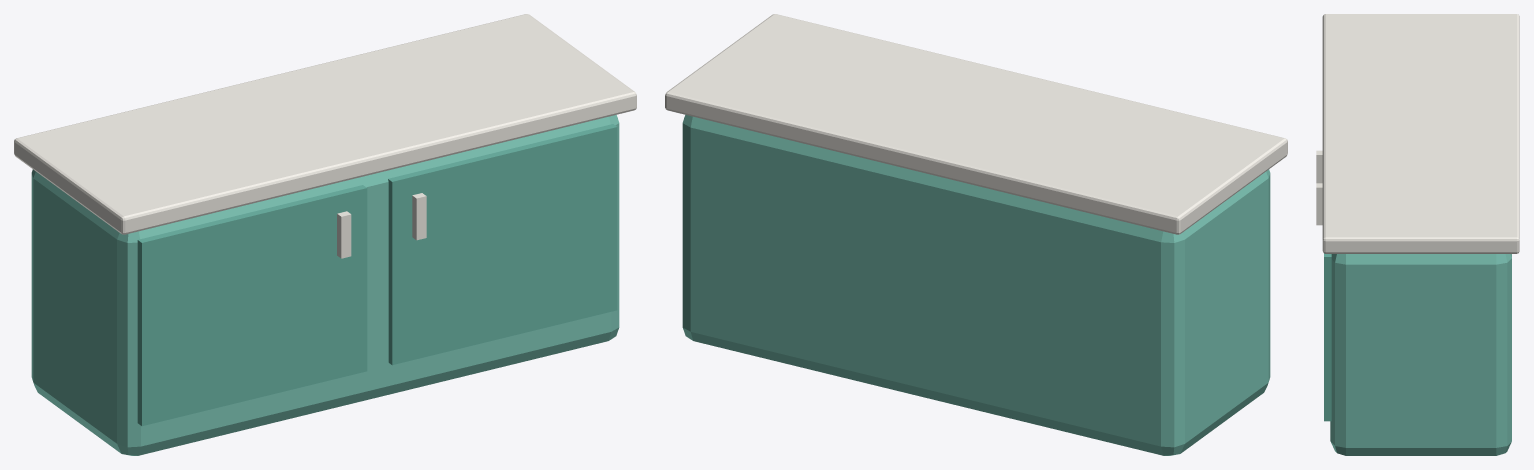
Rendered from Kitchen_Counter.fbx.
The picture shows the model from 3 angles, left to right: view 1: azimuth 30°, elevation 25°; view 2: azimuth 150°, elevation 25°; view 3: azimuth 270°, elevation 25°; orthographic projection. The views are drawn at different scales.
Visible parts, largest first — view 1: Counter; view 2: Counter; view 3: Counter.
Part boxes in pixels (bbox=[...]): Counter: bbox=[14, 14, 636, 455]; Counter: bbox=[665, 14, 1287, 455]; Counter: bbox=[1316, 14, 1519, 455].
Bounding box in the file's own units: 2.06 × 0.965 × 0.785.
